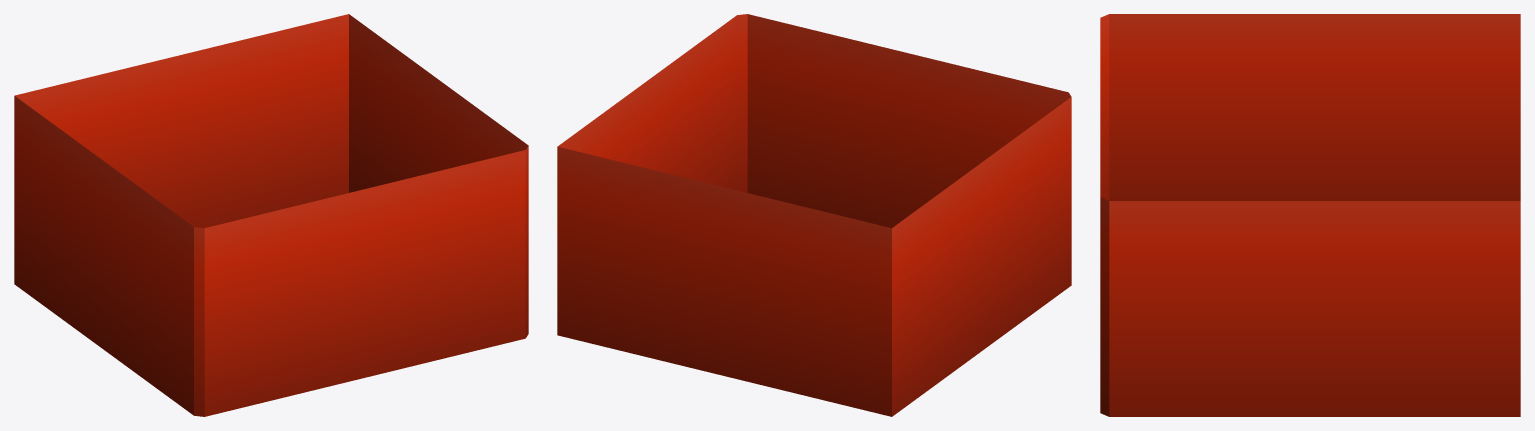
The model's file is Counter_01_C04.fbx.
The picture shows the model from 3 angles, left to right: view 1: azimuth 30°, elevation 25°; view 2: azimuth 150°, elevation 25°; view 3: azimuth 270°, elevation 25°; orthographic projection. The views are drawn at different scales.
Parts seen in each view (by area): view 1: Counter_01_C04; view 2: Counter_01_C04; view 3: Counter_01_C04.
Boxes of the visible parts, x1=… form: Counter_01_C04: x1=14, y1=14, x2=528, y2=416; Counter_01_C04: x1=557, y1=14, x2=1071, y2=416; Counter_01_C04: x1=1100, y1=14, x2=1520, y2=416.
Size of the model in its own units: 100 by 53.91 by 94.97.
